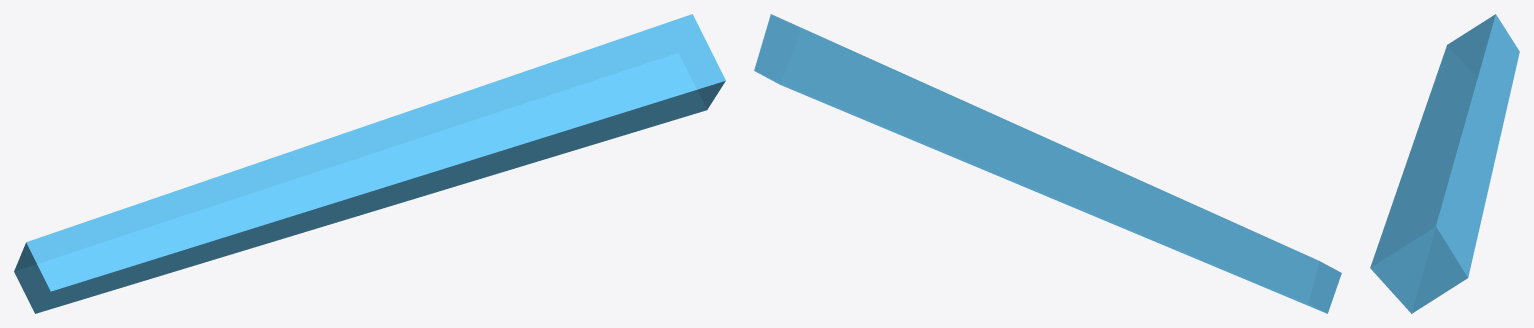
Rendered from Event_420094457_HErechit_44.fbx.
3 renders of one model, left to right at view 1: azimuth 30°, elevation 25°; view 2: azimuth 150°, elevation 25°; view 3: azimuth 270°, elevation 25°, orthographic. The views are drawn at different scales.
Parts seen in each view (by area): view 1: Model; view 2: Model; view 3: Model.
Boxes of the visible parts, bbox=[...] form: Model: bbox=[14, 14, 725, 313]; Model: bbox=[754, 14, 1341, 313]; Model: bbox=[1370, 14, 1519, 313].
Size of the model in its own units: 3.59 by 0.8608 by 0.738.
